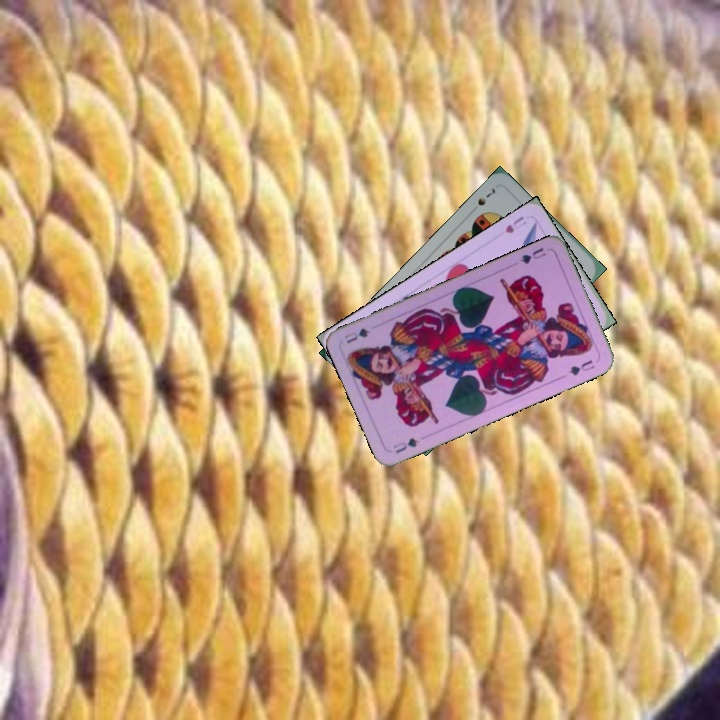GU: (516, 243, 548, 267), (389, 434, 422, 456)
HU: (501, 212, 529, 236)
S7: (474, 184, 498, 208)
